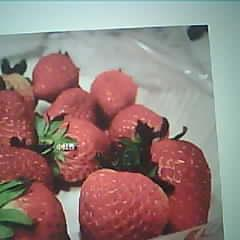straw-ripe: (79, 169, 168, 240), (150, 139, 211, 238), (47, 121, 110, 181)
